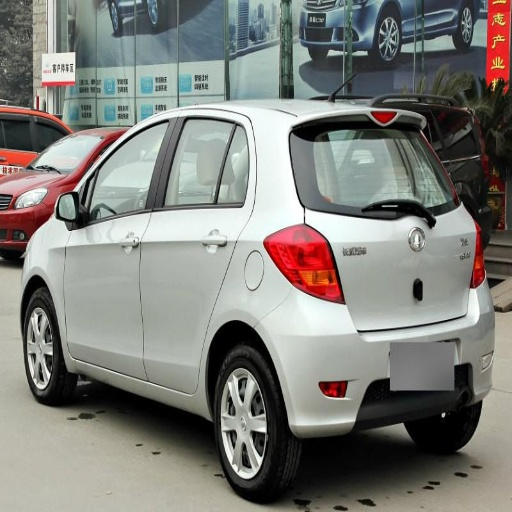back_bumper: (258, 287, 495, 439)
back_glass: (291, 122, 454, 218)
back_left_door: (141, 113, 250, 392)
tailgate: (329, 239, 438, 329)
trunk: (320, 216, 473, 330)
